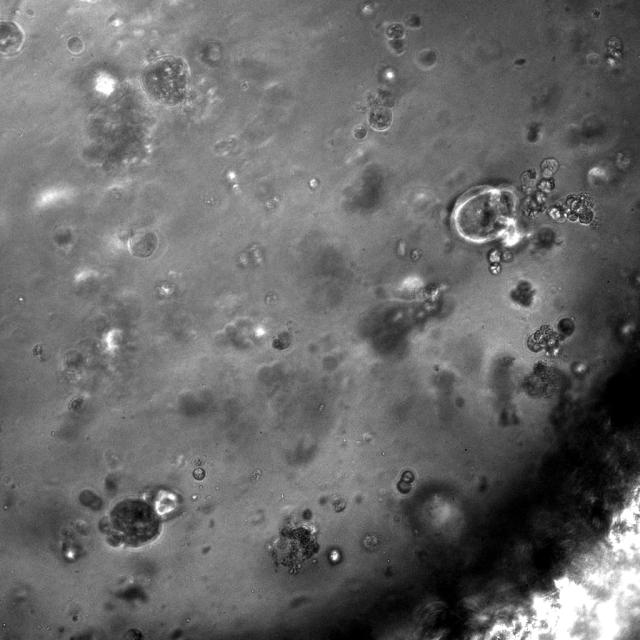organoid: (450, 158, 599, 274), (79, 65, 155, 169), (99, 498, 161, 547), (269, 522, 319, 574), (144, 56, 189, 105), (527, 316, 574, 356), (521, 361, 566, 398), (357, 87, 394, 132), (0, 20, 24, 56), (129, 232, 158, 257), (385, 22, 406, 54), (511, 280, 534, 306), (53, 225, 75, 252), (78, 489, 102, 510), (396, 469, 416, 494), (534, 227, 555, 249), (416, 49, 436, 70), (271, 331, 291, 349), (67, 36, 84, 55), (404, 14, 421, 29), (192, 467, 206, 481), (353, 125, 367, 139), (301, 508, 312, 520)
